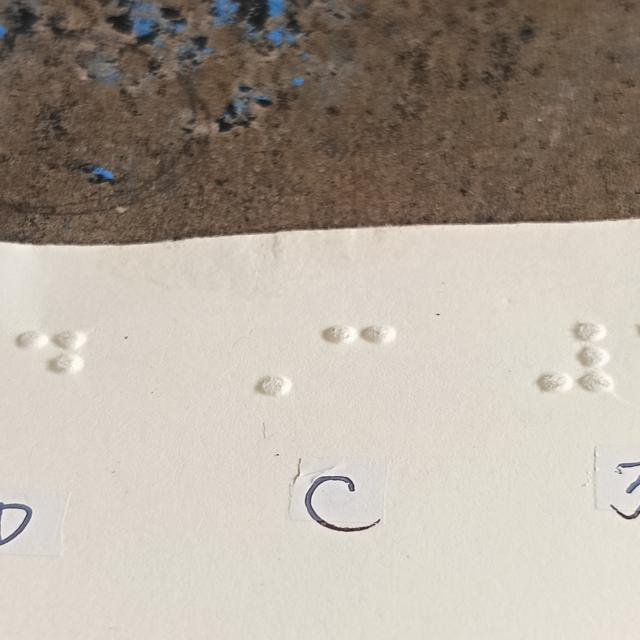capital_sign: (220, 321, 292, 395)
letter_C: (323, 325, 395, 400)
letter_d: (15, 331, 85, 405)
number_sign: (539, 321, 611, 395)
